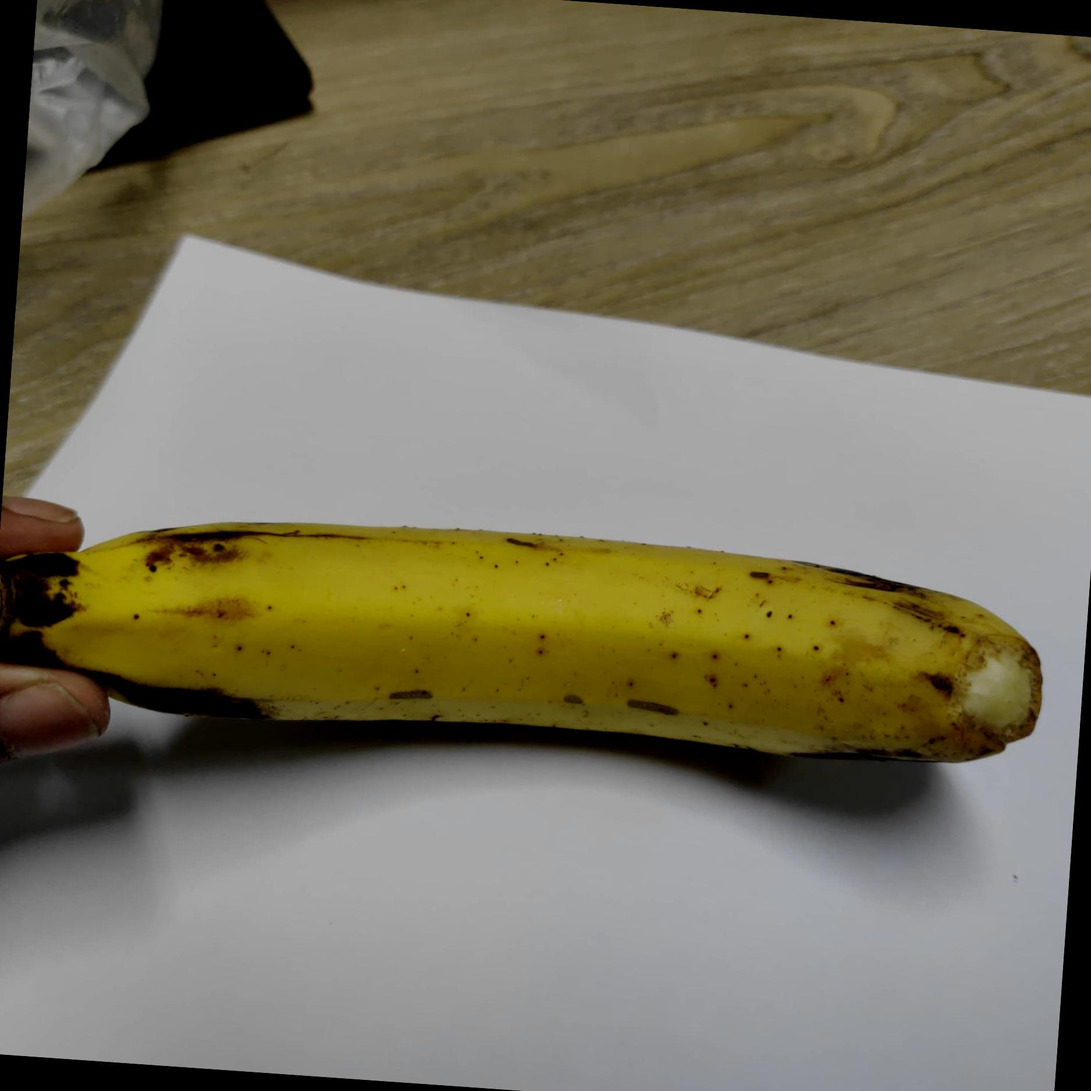Banana Ripe: (0, 428, 1091, 946)
